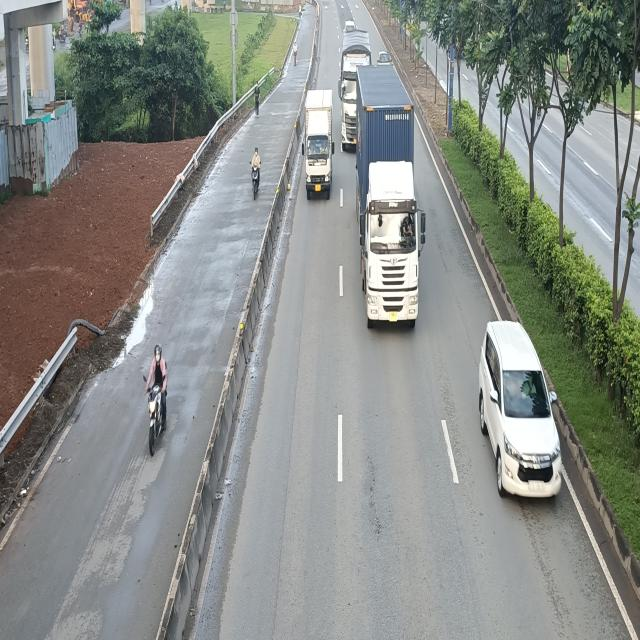car: (479, 320, 560, 501)
container: (354, 69, 424, 334)
truck: (300, 89, 334, 200), (340, 29, 364, 148)
